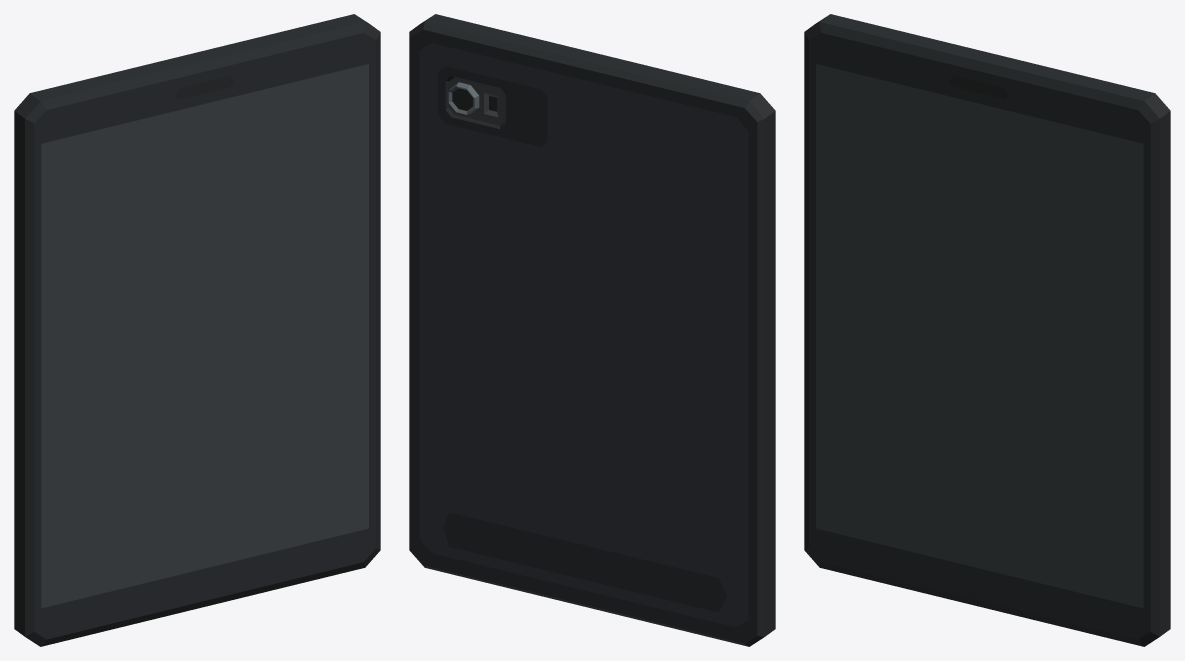
Rendered from SM_Prop_Computer_Tablet_01.obj.
3 views of the same model, side by side, from view 1: azimuth 30°, elevation 25°; view 2: azimuth 150°, elevation 25°; view 3: azimuth 330°, elevation 25° (orthographic).
Parts seen in each view (by area): view 1: SM_Prop_Computer_Tablet_01_0; view 2: SM_Prop_Computer_Tablet_01_0; view 3: SM_Prop_Computer_Tablet_01_0.
Part boxes in pixels (left/top/right/bottom): SM_Prop_Computer_Tablet_01_0: left=14, top=14, right=380, bottom=646; SM_Prop_Computer_Tablet_01_0: left=409, top=14, right=775, bottom=646; SM_Prop_Computer_Tablet_01_0: left=804, top=14, right=1170, bottom=646.
Bounding box in the file's own units: 0.2511 × 0.3682 × 0.0222.
Materials: 1 (1 with a texture image).
